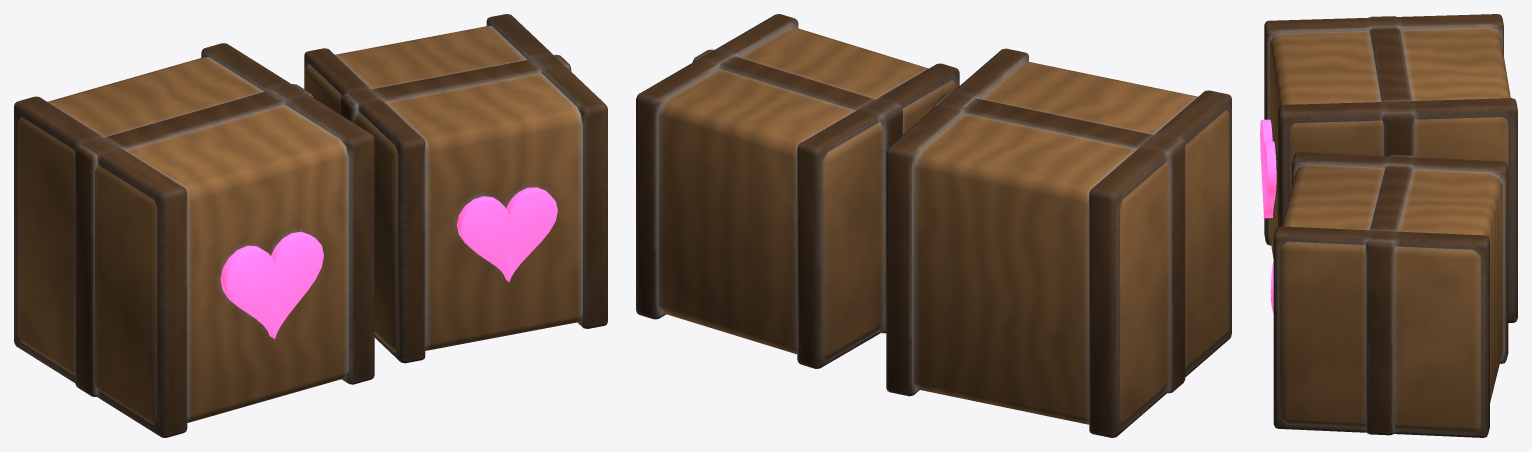
The model's file is tf_obstacle_crate.glb.
3 renders of one model, left to right at view 1: azimuth 30°, elevation 25°; view 2: azimuth 150°, elevation 25°; view 3: azimuth 270°, elevation 25°, orthographic. The views are drawn at different scales.
Visible parts, largest first — view 1: tf_obstacle_crate; view 2: tf_obstacle_crate; view 3: tf_obstacle_crate.
Part boxes in pixels (box(x1,y1,x2,y2)): tf_obstacle_crate: box(14, 14, 607, 437); tf_obstacle_crate: box(636, 14, 1231, 437); tf_obstacle_crate: box(1260, 14, 1517, 437).
Bounding box in the file's own units: 2.17 × 1.03 × 1.11.
3 materials, 3 textured.
